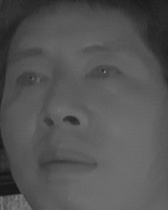eye: (83, 60, 122, 85), (13, 68, 49, 92)
mouth: (36, 144, 100, 185)
